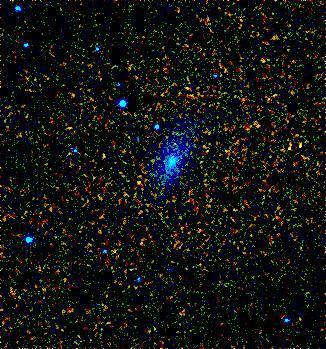star: (123, 165, 153, 195)
